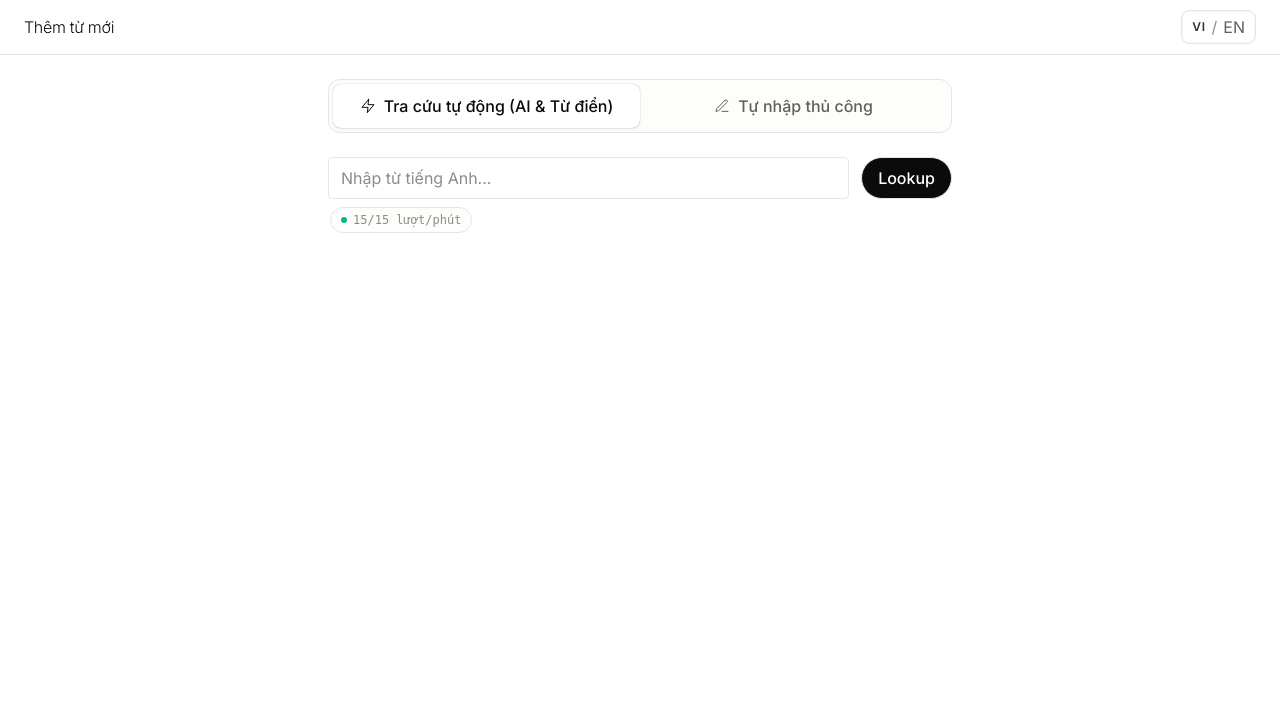
Test case: AddWordPage › switches to manual mode and displays WordForm
The width and height of the screenshot is (1280, 719).
What coordinates should you click on to do the following:
click the button "Tự nhập thủ công"
I would click on:
 (794, 106)
Its box is [640, 84, 947, 128].
(page scrolled)
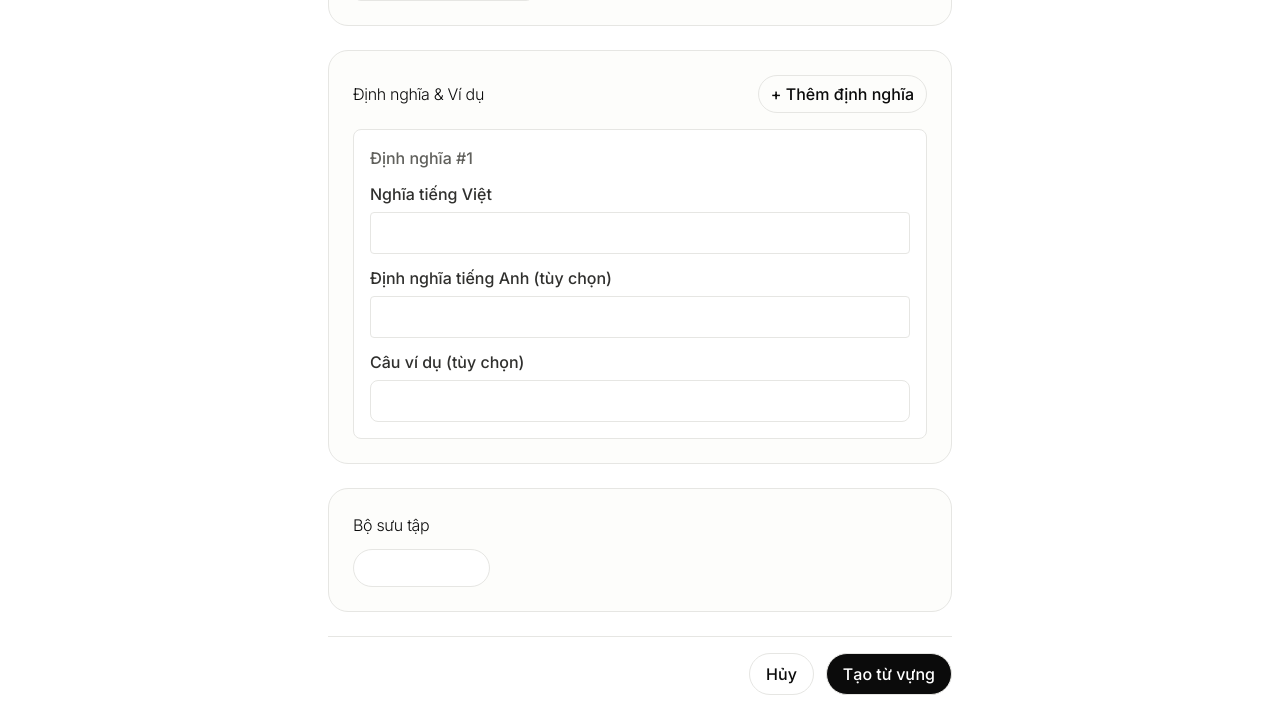
Check: the field labelled "Nghĩa tiếng Việt" is shown, box [370, 212, 910, 254]
Check: the button "Tạo từ vựng" is shown, box [826, 653, 952, 695]
